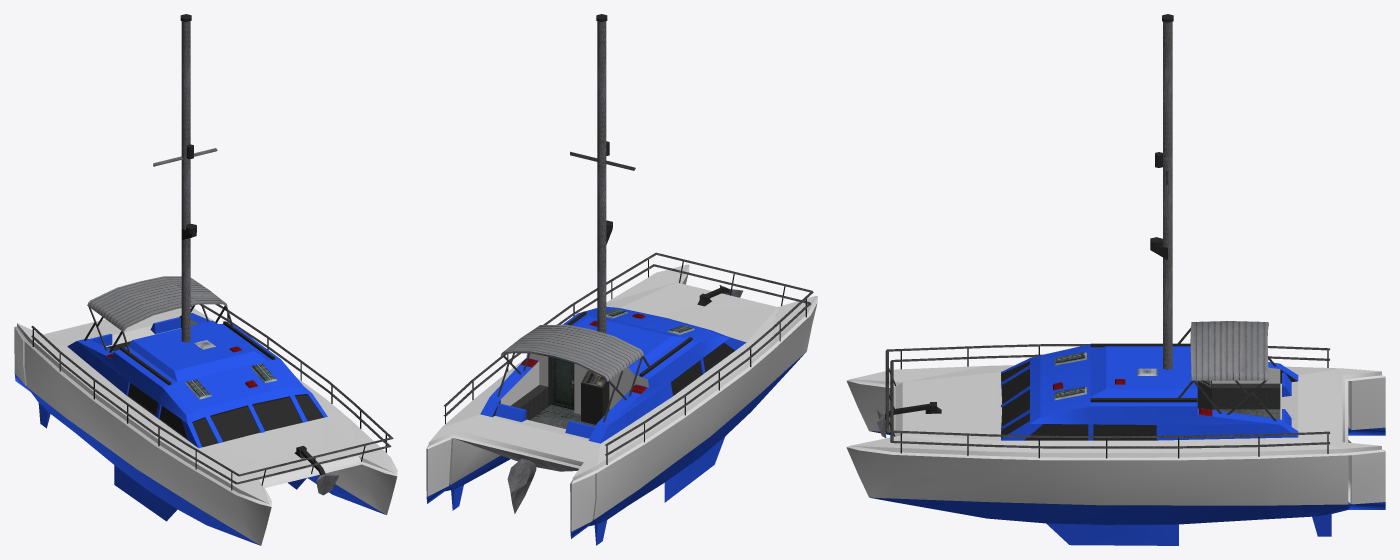
File: Ship_1.FBX
3 renders of one model, left to right at view 1: azimuth 30°, elevation 25°; view 2: azimuth 150°, elevation 25°; view 3: azimuth 270°, elevation 25°, orthographic. The views are drawn at different scales.
Visible parts, largest first — view 1: Body, boat_R; view 2: Body, boat_R, boat_L; view 3: Body, boat_R, boat_L.
Boxes of the visible parts, x1=… form: Body: x1=14, y1=14, x2=397, y2=545; boat_R: x1=14, y1=327, x2=30, y2=391; Body: x1=426, y1=14, x2=817, y2=545; boat_R: x1=570, y1=474, x2=595, y2=538; boat_L: x1=426, y1=439, x2=451, y2=503; Body: x1=846, y1=14, x2=1385, y2=545; boat_R: x1=1348, y1=377, x2=1385, y2=435; boat_L: x1=1348, y1=451, x2=1385, y2=509.
Bounding box in the file's own units: 172 × 425 × 421.
3 materials, 1 textured.
